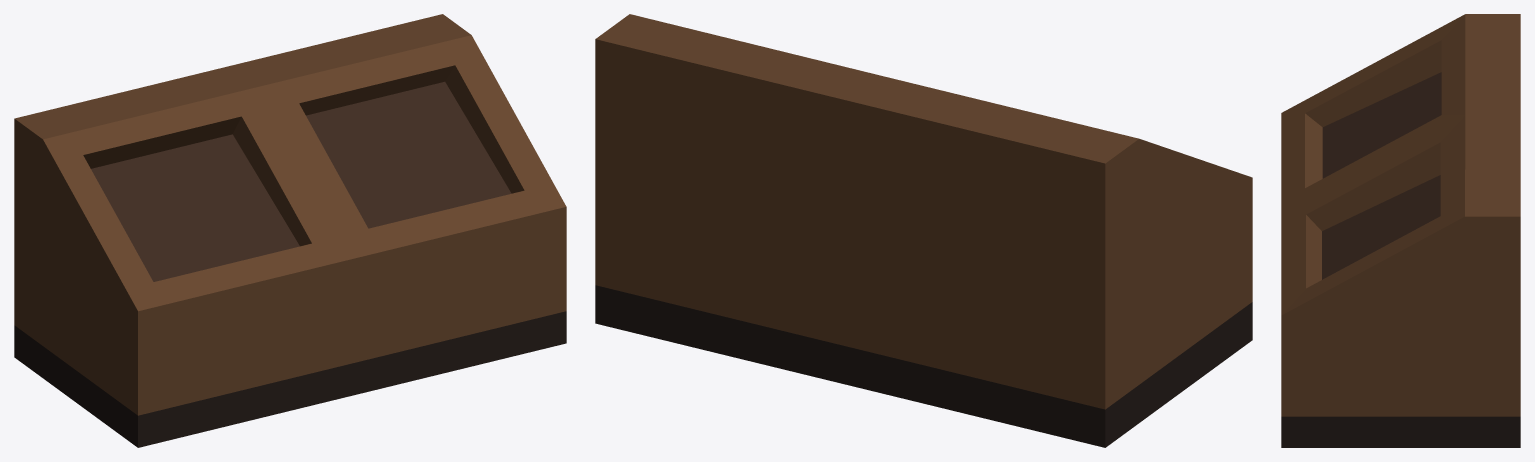
Rendered from bacsBois_x2.fbx.
The picture shows the model from 3 angles, left to right: view 1: azimuth 30°, elevation 25°; view 2: azimuth 150°, elevation 25°; view 3: azimuth 270°, elevation 25°; orthographic projection. The views are drawn at different scales.
Visible parts, largest first — view 1: Cube.015; view 2: Cube.015; view 3: Cube.015.
Part boxes in pixels (x1,y1,x2,y2): Cube.015: (14,14,566,447); Cube.015: (595,14,1252,447); Cube.015: (1281,14,1520,447).
Size of the model in its own units: 200 by 107 by 100.
